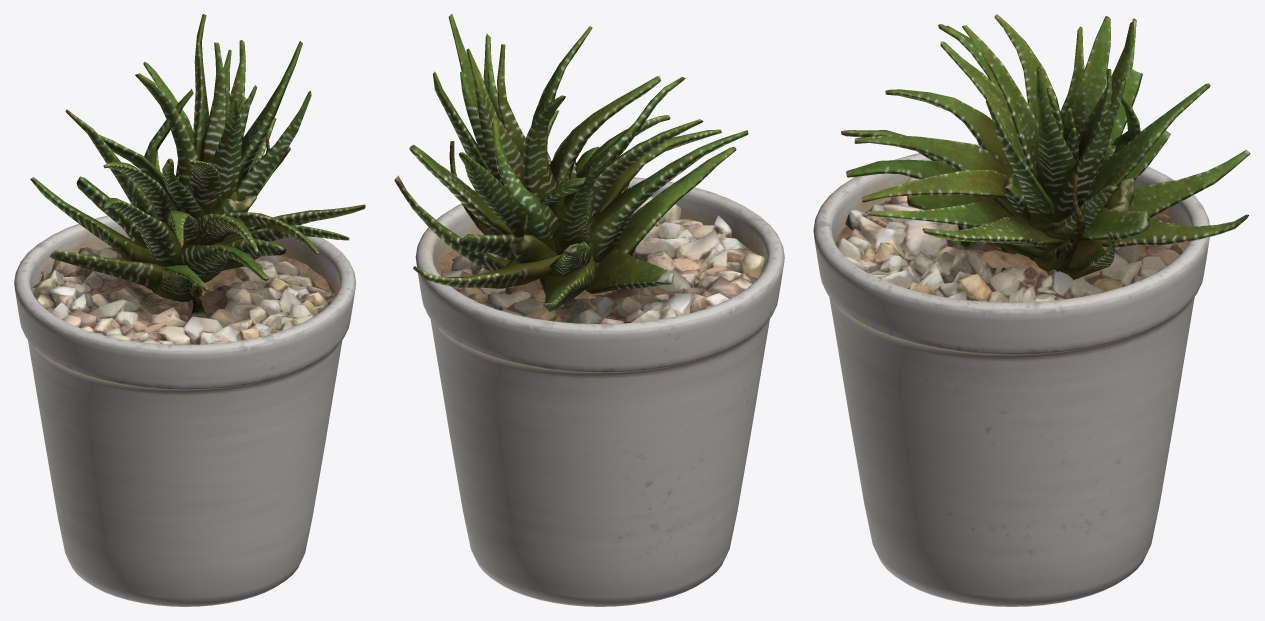
The picture shows the model from 3 angles, left to right: view 1: azimuth 30°, elevation 25°; view 2: azimuth 150°, elevation 25°; view 3: azimuth 270°, elevation 25°; orthographic projection. The views are drawn at different scales.
Parts seen in each view (by area): view 1: potted_plant_04_pot, potted_plant_04_plant, potted_plant_04_ground, potted_plant_04_dirt; view 2: potted_plant_04_pot, potted_plant_04_plant, potted_plant_04_ground, potted_plant_04_dirt; view 3: potted_plant_04_pot, potted_plant_04_plant, potted_plant_04_ground, potted_plant_04_dirt.
Boxes of the visible parts, left/top/right/bottom form: potted_plant_04_pot: left=14, top=215, right=355, bottom=606; potted_plant_04_plant: left=30, top=14, right=365, bottom=314; potted_plant_04_ground: left=33, top=247, right=335, bottom=344; potted_plant_04_dirt: left=33, top=247, right=336, bottom=306; potted_plant_04_pot: left=415, top=177, right=784, bottom=606; potted_plant_04_plant: left=394, top=14, right=748, bottom=311; potted_plant_04_ground: left=441, top=196, right=764, bottom=323; potted_plant_04_dirt: left=436, top=238, right=764, bottom=307; potted_plant_04_pot: left=813, top=144, right=1209, bottom=606; potted_plant_04_plant: left=841, top=14, right=1250, bottom=279; potted_plant_04_ground: left=836, top=177, right=1182, bottom=302; potted_plant_04_dirt: left=835, top=200, right=1188, bottom=297.
Bounding box in the file's own units: 15.69 × 25 × 17.27.
1 material, 1 textured.
